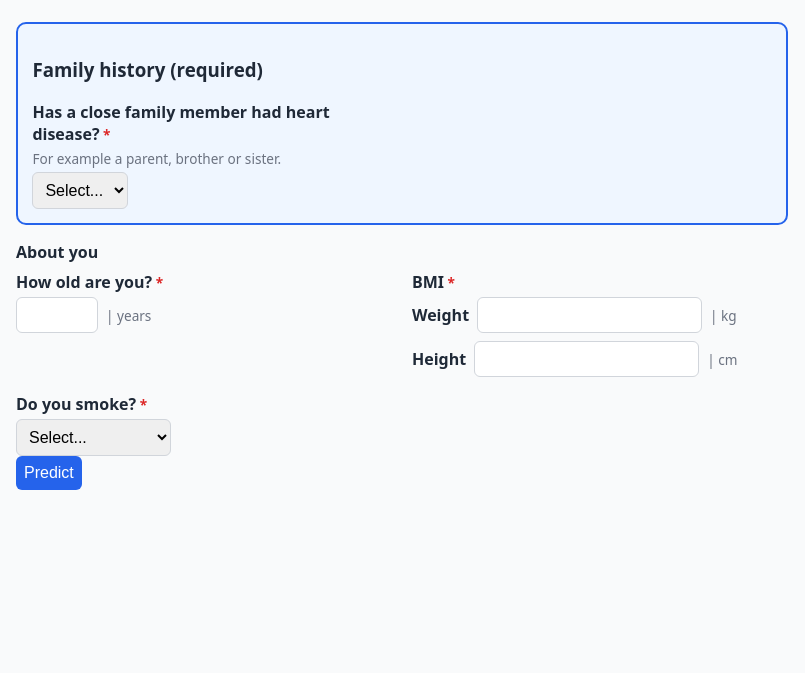
Test: Predict form › sends computed obesity and tobacco and omits the helper keys
Step 1. Type "40" into the number field labelled "How old are you?" → (57, 315), box [16,297,98,333]
Step 2. Type "70" into the number field labelled "Weight" → (590, 315), box [477,297,702,333]
Step 3. Type "175" into the number field labelled "Height" → (587, 359), box [474,341,699,377]
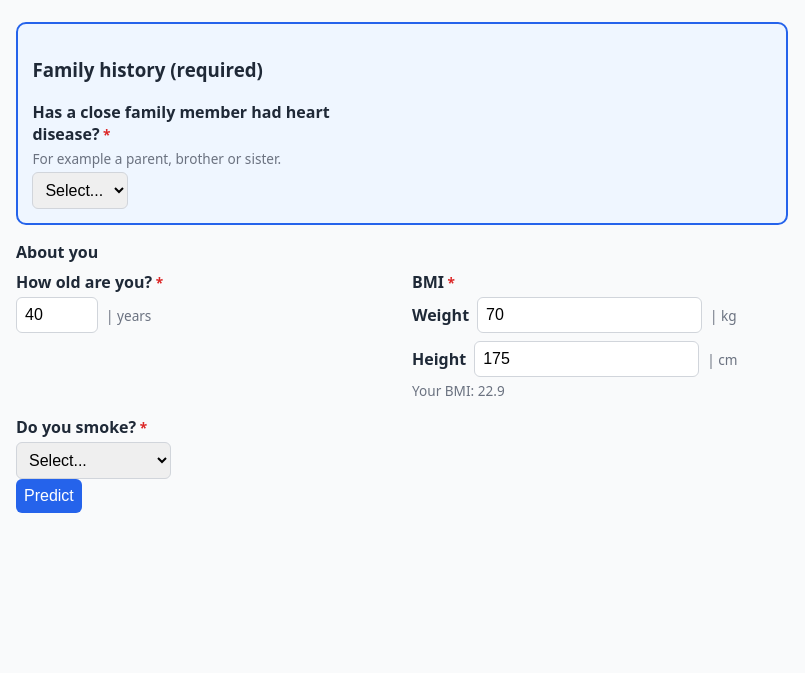
Step 4. Select "Currently smoke" in the dropdown labelled "Do you smoke?" → (94, 461), box [16,442,171,479]
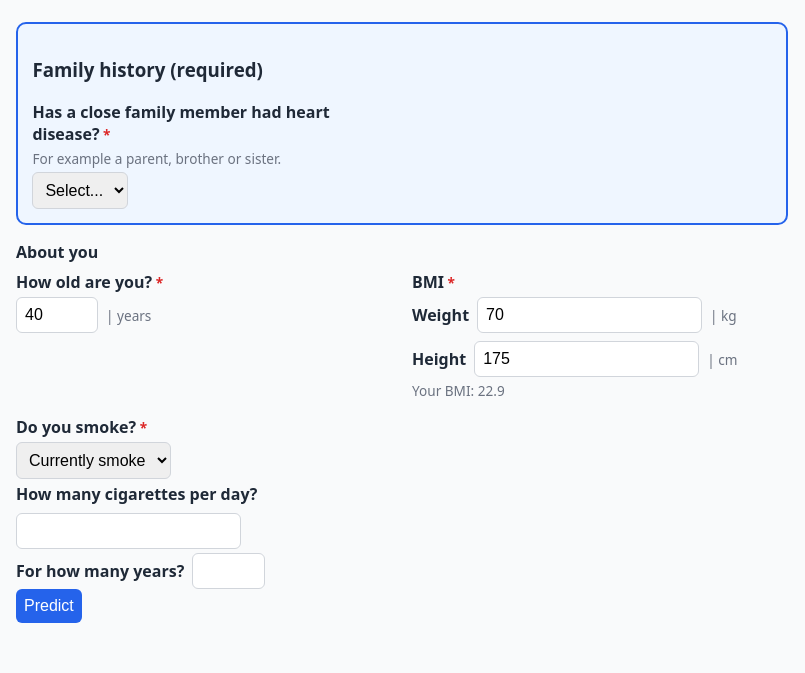
Step 5. Select "Yes" in the dropdown labelled "Has a close family member had heart disease?" → (80, 190), box [32,172,128,209]
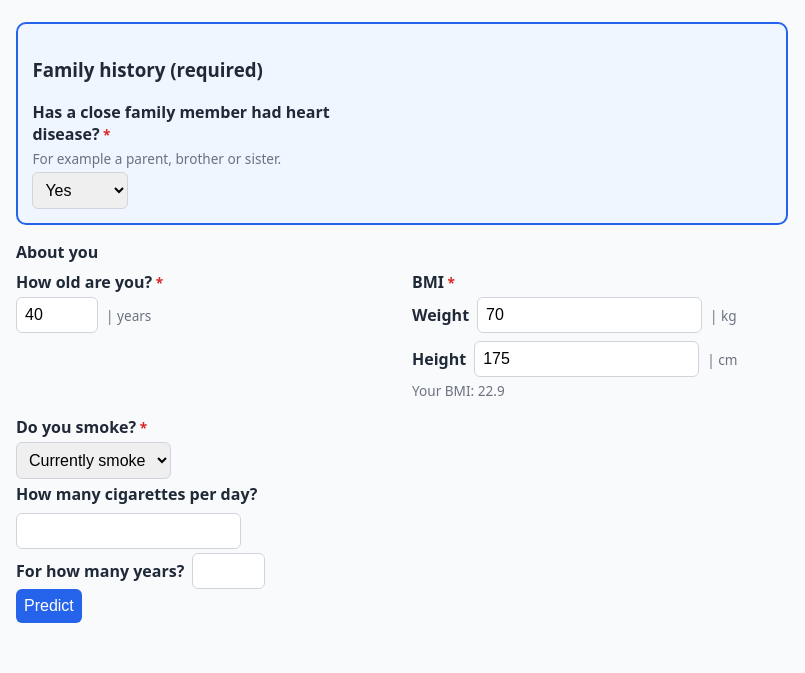
Step 6. Type "20" into the number field labelled "How many cigarettes per day?" → (128, 531), box [16,513,241,549]
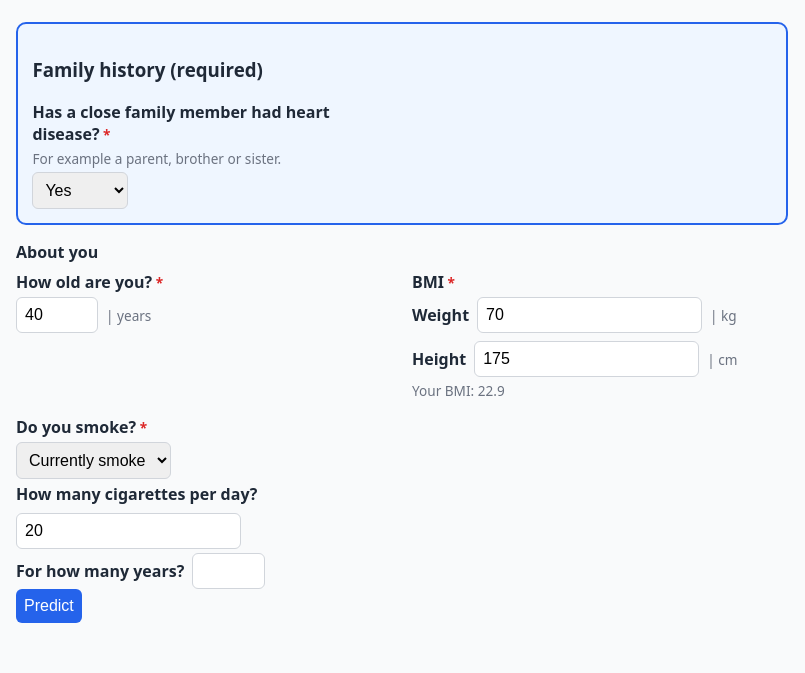
Step 7. Type "10" into the number field labelled "For how many years?" → (229, 571), box [192,553,265,589]
(page scrolled)
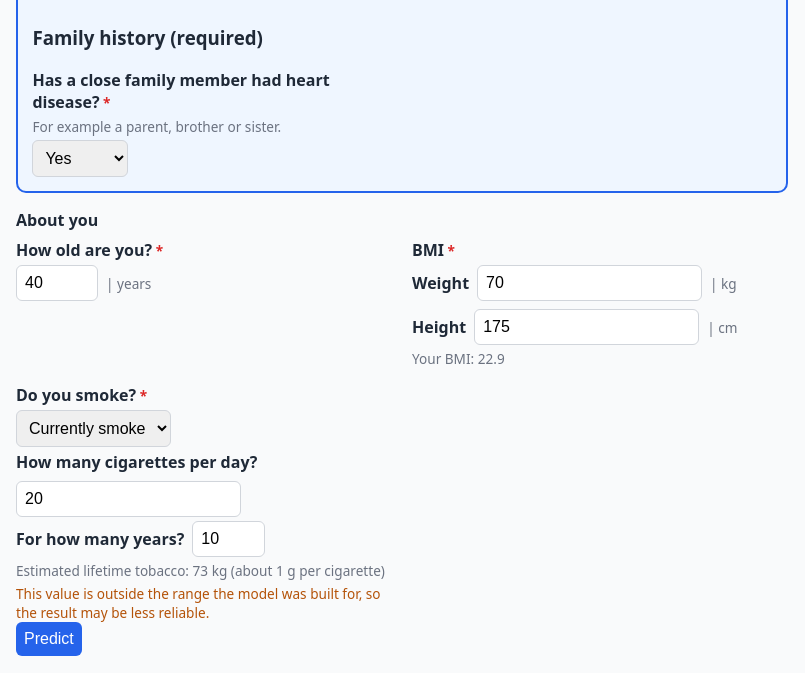
Step 8. Click the button "Predict" → (49, 639), box [16,622,82,656]
(page scrolled)
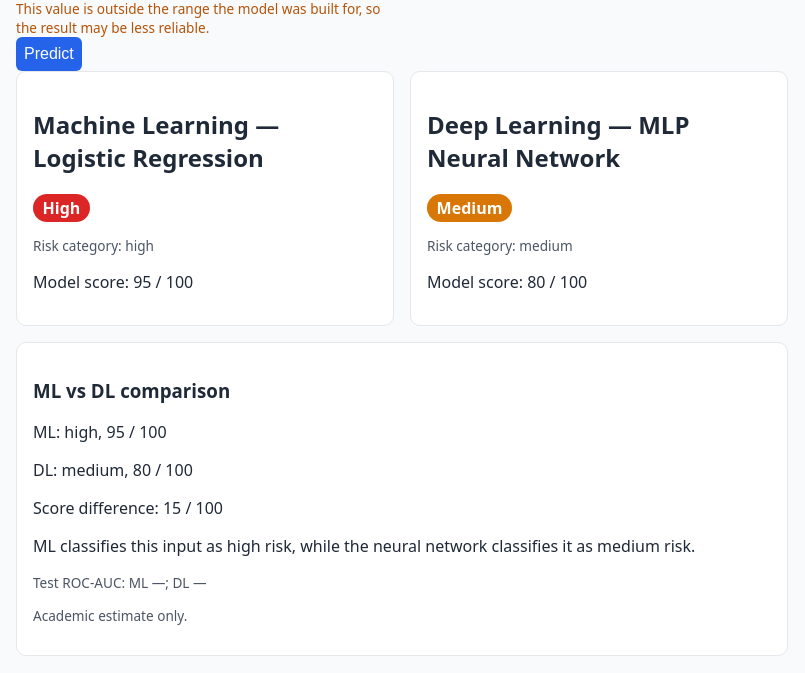
Expected: the element with test id "comparison-summary" is shown, [16,342,788,656]
